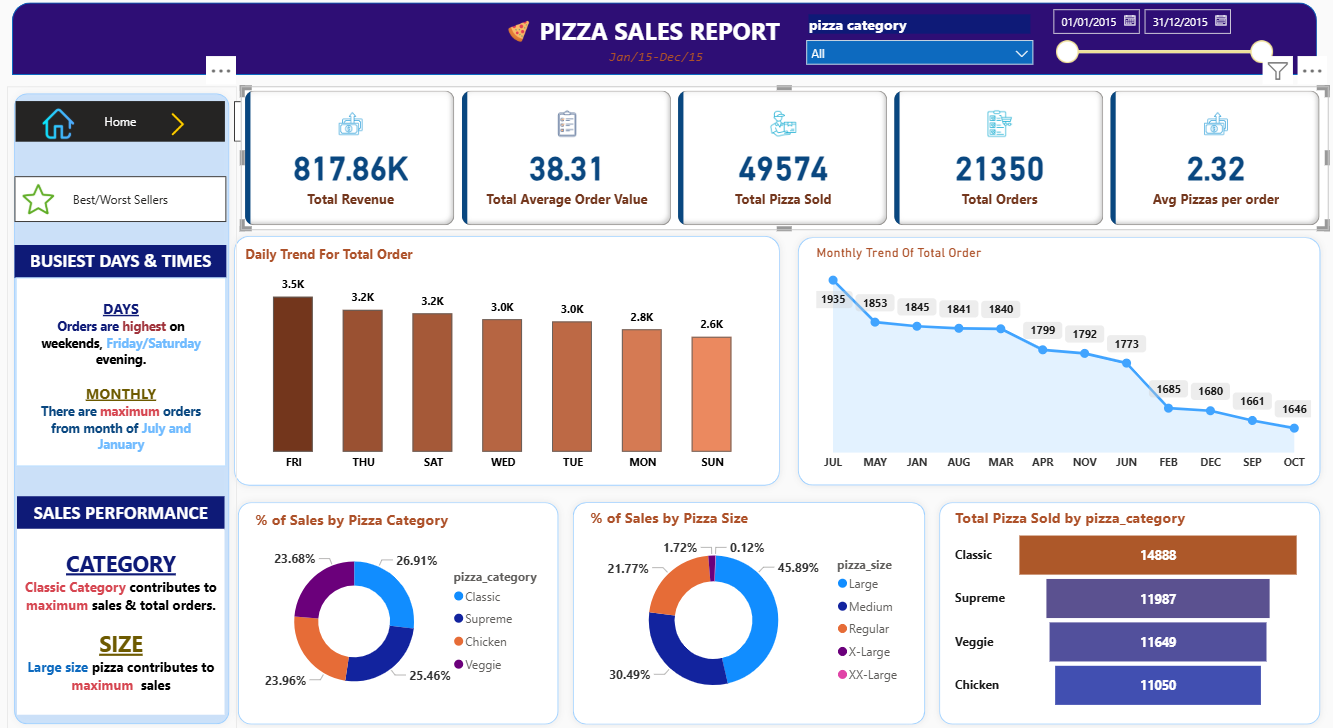

The page's visual inventory and layout, read from the dashboard file:
{"tool":"powerbi","page":{"name":"Home","canvas":[1500,820],"ordinal":0},"visuals":[{"type":"cardVisual","fields":{"Data":["pizza_sales_1.Total Revenue","pizza_sales_1.Total Average Order Value","pizza_sales_1.Total Pizza Sold","pizza_sales_1.Total Orders","pizza_sales_1.Avg Pizzas per order"]},"box":[271.8,101.3,1210.9,160.8],"z":0},{"type":"shape","box":[16.7,8.4,1453.9,80.8],"z":1000},{"type":"textbox","box":[591.8,16.1,292.7,48.2],"z":2000},{"type":"textbox","box":[677,54.7,180.1,37],"z":3000},{"type":"image","box":[529.1,24.1,104.5,33.8],"z":4000},{"type":"shape","box":[255.7,260.5,623.9,294.3],"z":5000},{"type":"columnChart","title":"Daily Trend For Total Order","fields":{"Category":["pizza_sales_1.Order Day"],"Y":["pizza_sales_1.Total Orders"]},"box":[271.8,278.2,585.3,260.5],"z":6000},{"type":"shape","box":[884.4,262.1,598.2,292.7],"z":7000},{"type":"areaChart","title":"Monthly Trend Of Total Order","fields":{"Y":["pizza_sales_1.Total Orders"],"Category":["pizza_sales_1.Order Month"]},"box":[908.6,278.2,561.2,260.5],"z":8000},{"type":"shape","box":[260.5,556.4,373.1,263.7],"z":9000},{"type":"shape","box":[633.6,556.4,408.4,263.7],"z":10000},{"type":"shape","box":[1042,556.4,440.6,263.7],"z":11000},{"type":"donutChart","title":"% of Sales by Pizza Category","fields":{"Category":["pizza_sales_1.pizza_category"],"Y":["pizza_sales_1.Total Revenue"]},"box":[282.7,572.4,339.8,229.8],"z":12000},{"type":"donutChart","title":"% of Sales by Pizza Size","fields":{"Category":["pizza_sales_1.pizza_size"],"Y":["pizza_sales_1.Total Revenue"]},"box":[656.1,570.9,365,230],"z":13000},{"type":"funnel","fields":{"Category":["pizza_sales_1.pizza_category"],"Y":["pizza_sales_1.Total Pizza Sold"]},"box":[1062.9,570.9,395.6,230],"z":14000},{"type":"shape","box":[11.3,101.3,255.7,718.8],"z":15000},{"type":"textbox","box":[19.3,278.2,236.4,37],"z":16000},{"type":"textbox","box":[20.9,315.2,234.8,210.7],"z":17000},{"type":"textbox","box":[22.5,558,231.6,37],"z":18000},{"type":"textbox","box":[22.5,595,231.6,207.4],"z":19000},{"type":"slicer","fields":{"Values":["pizza_sales_1.pizza_category"]},"box":[891.3,16.7,273,64.1],"z":20000},{"type":"slicer","fields":{"Values":["pizza_sales_1.order_date"]},"box":[1164.3,5.6,266,75.2],"z":21000},{"type":"pageNavigator","box":[20.9,119,479.2,51.5],"z":22000},{"type":"pageNavigator","box":[19.3,202.6,236.4,51.5],"z":23000},{"type":"image","box":[183.3,123.8,35.4,40.2],"z":24000},{"type":"image","box":[46.6,117.4,45,53.1],"z":25000},{"type":"image","box":[24.1,202.6,45,51.5],"z":26000}]}

Visuals, with their boxes on the page's 1500x820 design canvas (x1, y1, x2, y2). These are canvas units, not pixel positions in the 1333x728 screenshot, which may show the page scaled, cropped or inside an application window:
cardVisual - pizza_sales_1.Total Revenue x pizza_sales_1.Total Average Order Value: (272, 101, 1483, 262)
shape: (17, 8, 1471, 89)
textbox: (592, 16, 884, 64)
textbox: (677, 55, 857, 92)
image: (529, 24, 634, 58)
shape: (256, 260, 880, 555)
"Daily Trend For Total Order" columnChart: (272, 278, 857, 539)
shape: (884, 262, 1483, 555)
"Monthly Trend Of Total Order" areaChart: (909, 278, 1470, 539)
shape: (260, 556, 634, 820)
shape: (634, 556, 1042, 820)
shape: (1042, 556, 1483, 820)
"% of Sales by Pizza Category" donutChart: (283, 572, 622, 802)
"% of Sales by Pizza Size" donutChart: (656, 571, 1021, 801)
funnel - pizza_sales_1.pizza_category x pizza_sales_1.Total Pizza Sold: (1063, 571, 1458, 801)
shape: (11, 101, 267, 820)
textbox: (19, 278, 256, 315)
textbox: (21, 315, 256, 526)
textbox: (22, 558, 254, 595)
textbox: (22, 595, 254, 802)
slicer - pizza_sales_1.pizza_category: (891, 17, 1164, 81)
slicer - pizza_sales_1.order_date: (1164, 6, 1430, 81)
pageNavigator: (21, 119, 500, 170)
pageNavigator: (19, 203, 256, 254)
image: (183, 124, 219, 164)
image: (47, 117, 92, 170)
image: (24, 203, 69, 254)
